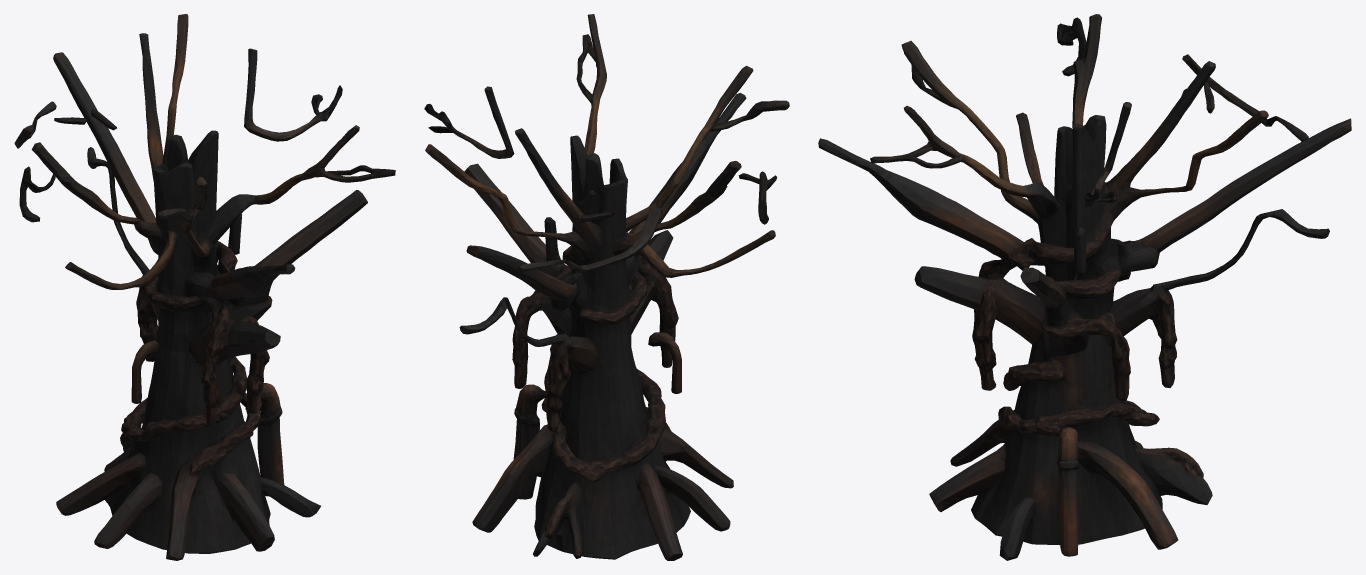
File: tree2.glb
3 renders of one model, left to right at view 1: azimuth 30°, elevation 25°; view 2: azimuth 150°, elevation 25°; view 3: azimuth 270°, elevation 25°, orthographic. The views are drawn at different scales.
Parts seen in each view (by area): view 1: world; view 2: world; view 3: world.
Part boxes in pixels (x1,y1,x2,y2): world: [14, 14, 395, 560]; world: [424, 14, 789, 560]; world: [818, 14, 1351, 560].
Size of the model in its own units: 0.7665 by 0.9553 by 1.
Materials: 1 (1 with a texture image).
